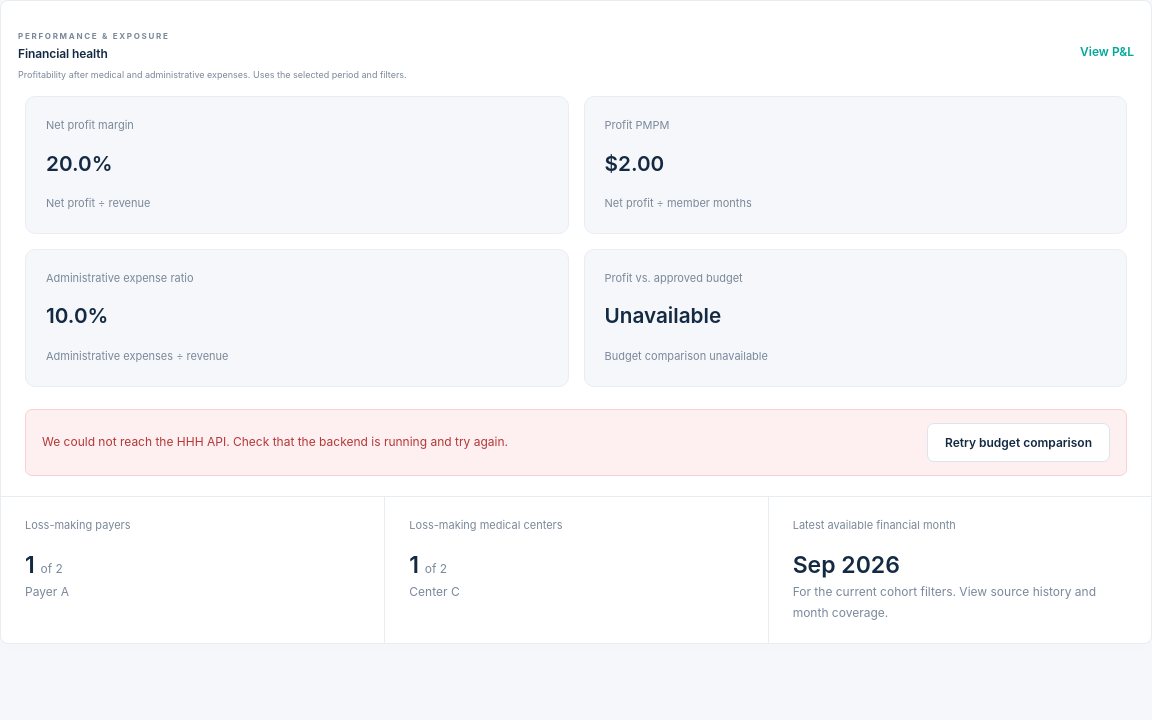
Scenario: Executive financial health › shows budget errors, then retries without hiding the other KPIs
Click the button "Retry budget comparison".
click(1018, 442)  # box [927,423,1110,462]
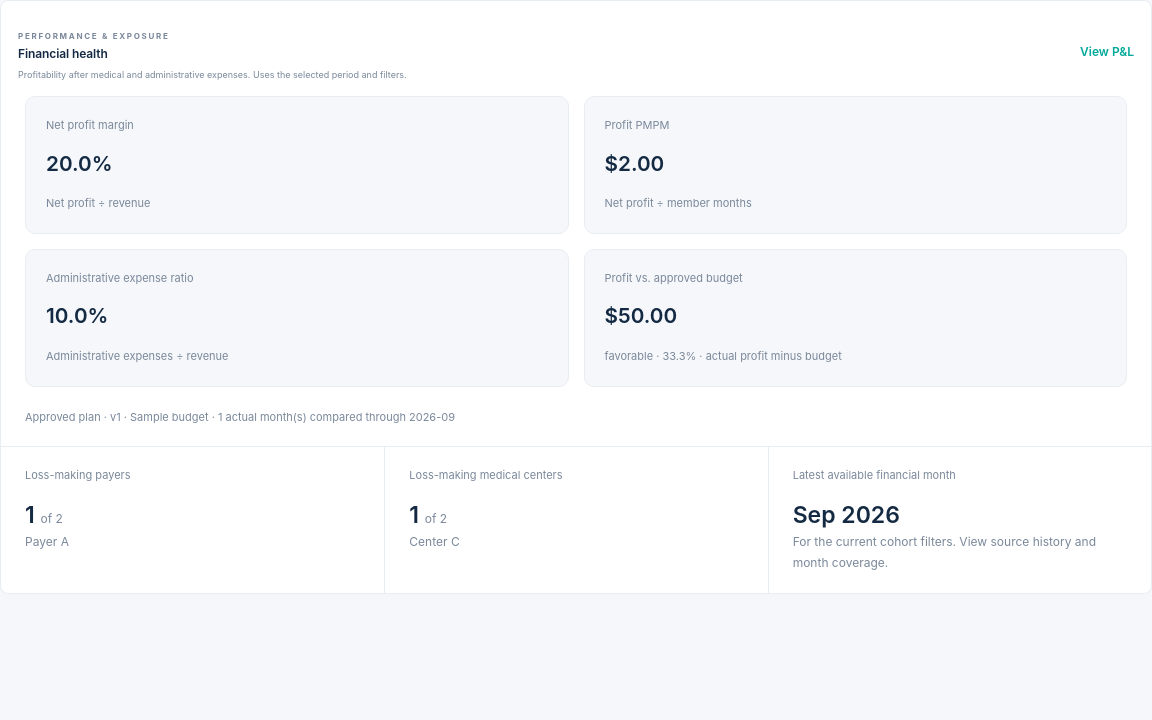
expect the message is gone: met
